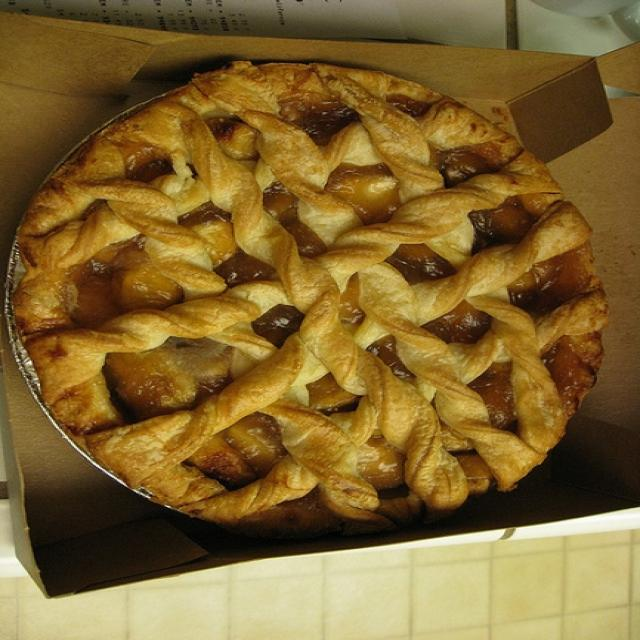炸货点心: (9, 31, 619, 572)
蛋糕甜品: (9, 31, 619, 572)
